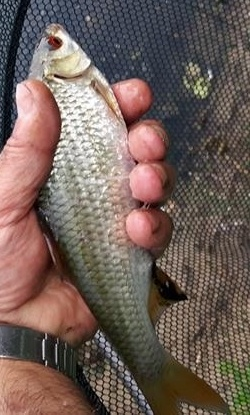Rutilus rutilus: (20, 20, 230, 415)
